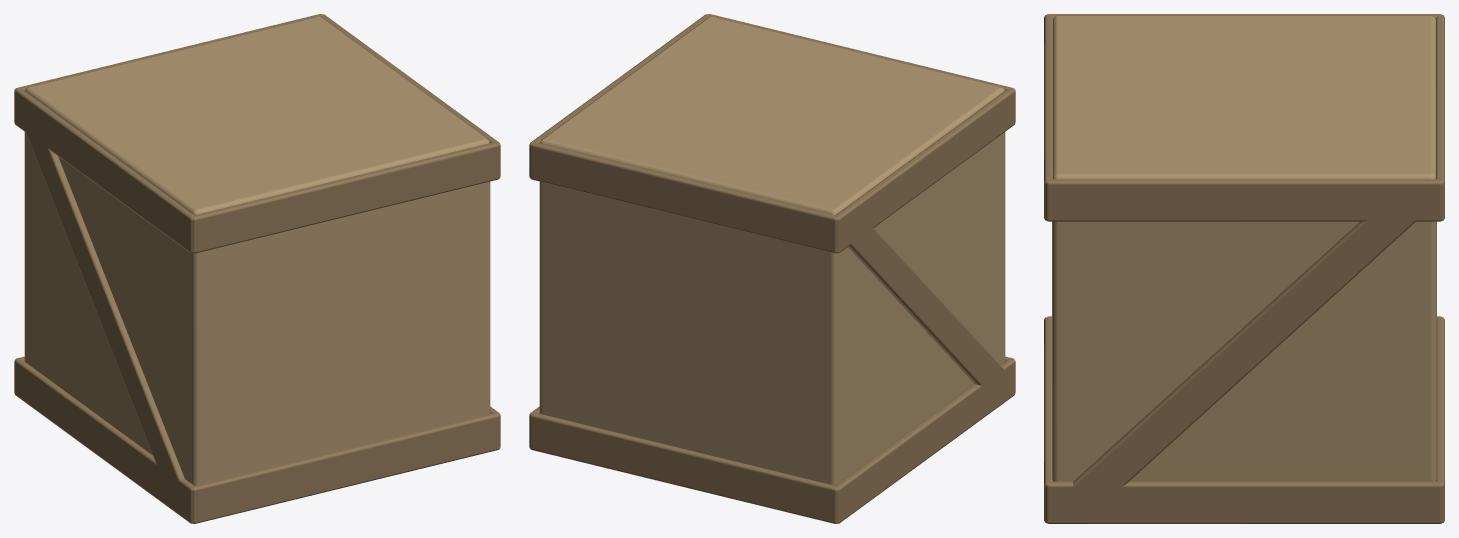
The model's file is crate_small.glb.
3 renders of one model, left to right at view 1: azimuth 30°, elevation 25°; view 2: azimuth 150°, elevation 25°; view 3: azimuth 270°, elevation 25°, orthographic. The views are drawn at different scales.
Parts seen in each view (by area): view 1: Crate, Plank.005, Plank.001, Diag.001, Plank.007, Plank.003, Plank.006, Plank.004; view 2: Crate, Plank.004, Plank, Plank.007, Diag.001, Plank.003, Plank.006, Plank.005; view 3: Crate, Diag, Plank.006, Plank.002, Plank.005, Plank.004, Plank, Plank.001, Plank.007.
Boxes of the visible parts, bbox=[...] form: Crate: bbox=[24, 17, 490, 485]; Plank.005: bbox=[192, 142, 499, 253]; Plank.001: bbox=[192, 412, 499, 523]; Diag.001: bbox=[22, 111, 184, 502]; Plank.007: bbox=[14, 88, 194, 253]; Plank.003: bbox=[14, 359, 194, 523]; Plank.006: bbox=[320, 14, 500, 177]; Plank.004: bbox=[15, 14, 321, 90]; Crate: bbox=[539, 17, 1005, 485]; Plank.004: bbox=[530, 142, 837, 253]; Plank: bbox=[530, 412, 837, 523]; Plank.007: bbox=[835, 88, 1015, 253]; Diag.001: bbox=[847, 213, 1007, 400]; Plank.003: bbox=[835, 359, 1015, 523]; Plank.006: bbox=[529, 14, 709, 177]; Plank.005: bbox=[708, 14, 1014, 90]; Crate: bbox=[1052, 15, 1436, 481]; Diag: bbox=[1065, 191, 1422, 515]; Plank.006: bbox=[1046, 179, 1442, 221]; Plank.002: bbox=[1046, 481, 1442, 523]; Plank.005: bbox=[1044, 14, 1053, 220]; Plank.004: bbox=[1435, 14, 1444, 220]; Plank: bbox=[1436, 317, 1444, 522]; Plank.001: bbox=[1044, 317, 1052, 522]; Plank.007: bbox=[1047, 14, 1441, 18].
Size of the model in its own units: 0.8338 by 0.8004 by 0.8338.
